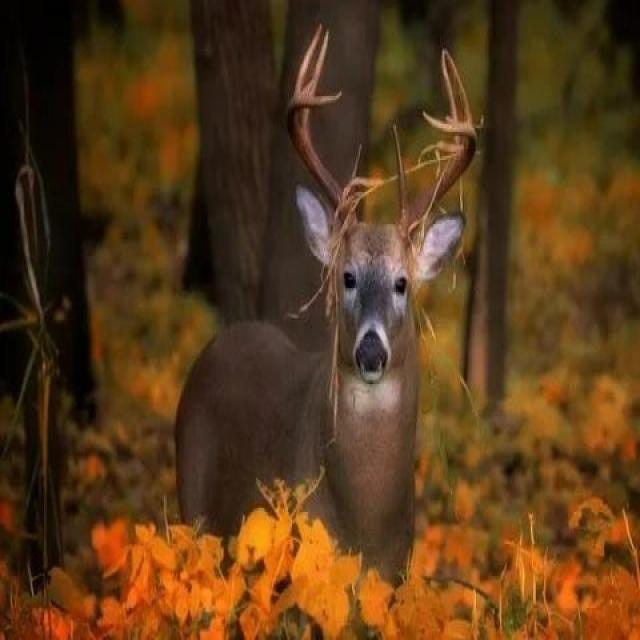deer: (148, 69, 496, 616)
